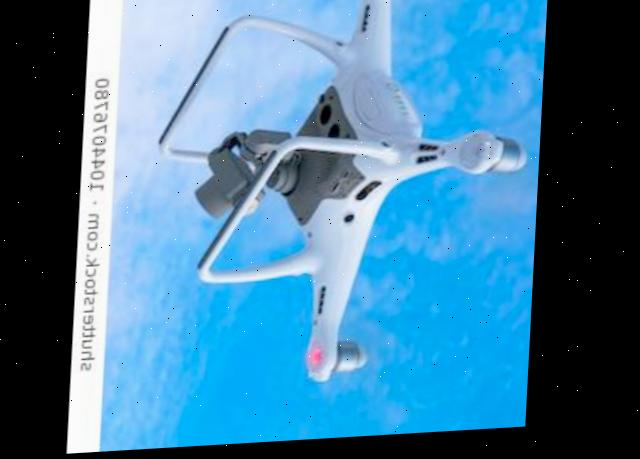drone: (156, 0, 547, 451)
